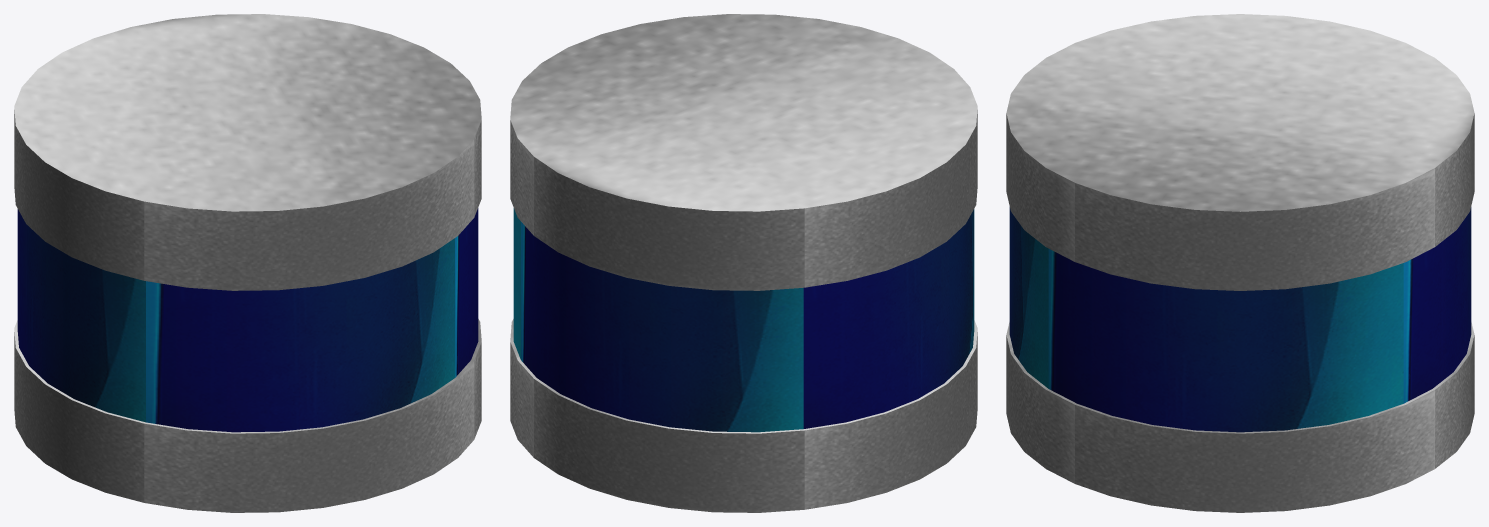
Rendered from velodyne.fbx.
The picture shows the model from 3 angles, left to right: view 1: azimuth 30°, elevation 25°; view 2: azimuth 150°, elevation 25°; view 3: azimuth 270°, elevation 25°; orthographic projection.
Visible parts, largest first — view 1: Cylinder; view 2: Cylinder; view 3: Cylinder.
Boxes of the visible parts, <box> form: Cylinder: <box>14,14,481,512</box>; Cylinder: <box>510,14,977,512</box>; Cylinder: <box>1006,14,1474,512</box>.
Bounding box in the file's own units: 10.41 × 7.39 × 10.41.
